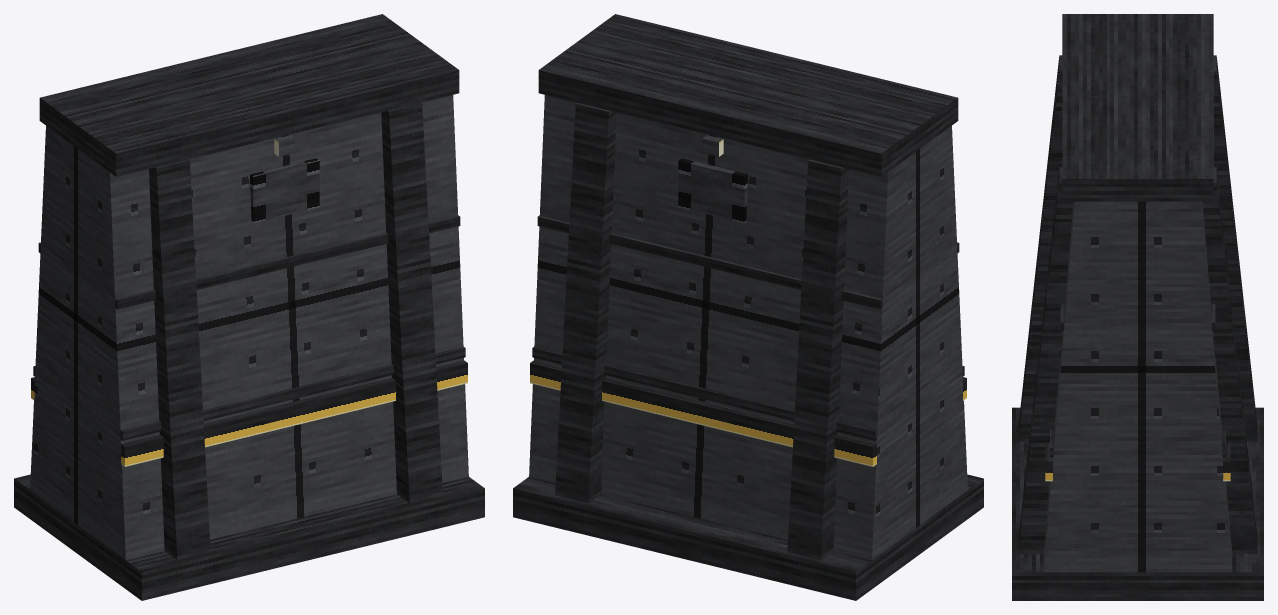
The model's file is wall.glb.
3 views of the same model, side by side, from view 1: azimuth 30°, elevation 25°; view 2: azimuth 150°, elevation 25°; view 3: azimuth 270°, elevation 25° (orthographic).
Visible parts, largest first — view 1: wall, lip, footing, pilaster, pilaster.002, light_strip, vent, seam.002, seam; view 2: wall, lip, footing, pilaster.001, pilaster.003, light_strip.001, vent.001, seam.003, seam.001; view 3: wall, lip, footing, pilaster.002, pilaster.003, pilaster, pilaster.001.
Boxes of the visible parts, x1,y1,x2,y2 form: wall: (30,95,468,560); lip: (39,14,459,176); footing: (14,474,484,600); pilaster: (149,159,210,559); pilaster.002: (381,103,442,503); light_strip: (121,360,467,466); vent: (250,158,319,223); seam.002: (115,215,460,309); seam: (120,346,465,440); wall: (529,95,967,560); lip: (538,14,958,176); footing: (513,474,983,600); pilaster.001: (787,159,848,559); pilaster.003: (555,103,616,503); light_strip.001: (530,360,876,466); vent.001: (678,158,747,223); seam.003: (537,215,882,309); seam.001: (532,346,877,440); wall: (1043,201,1232,572); lip: (1062,14,1213,201); footing: (1012,407,1263,600); pilaster.002: (1018,167,1073,553); pilaster.003: (1202,167,1257,553); pilaster: (1018,55,1062,441); pilaster.001: (1213,55,1257,441).
Size of the model in its own units: 62 by 74 by 40.
5 materials, 5 textured.
